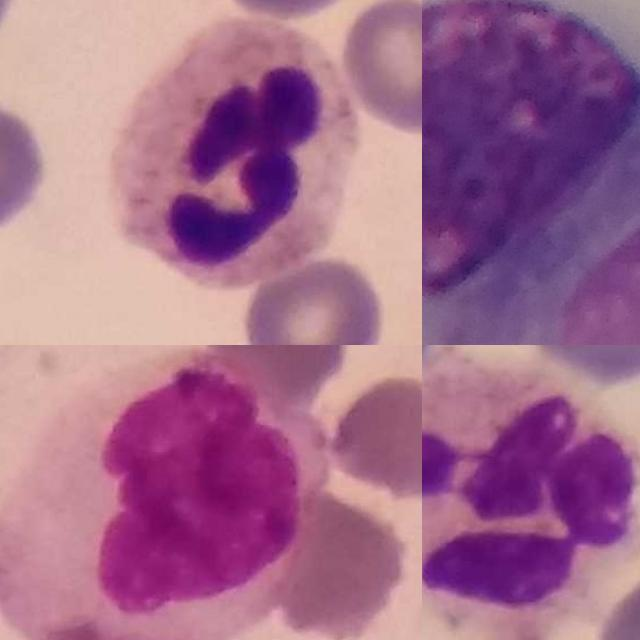Basophil: (422, 0, 640, 308)
Lymphocyte: (454, 97, 640, 345)
Monocyte: (0, 346, 325, 640)
Neutrophil: (109, 13, 362, 291), (422, 353, 640, 640)
